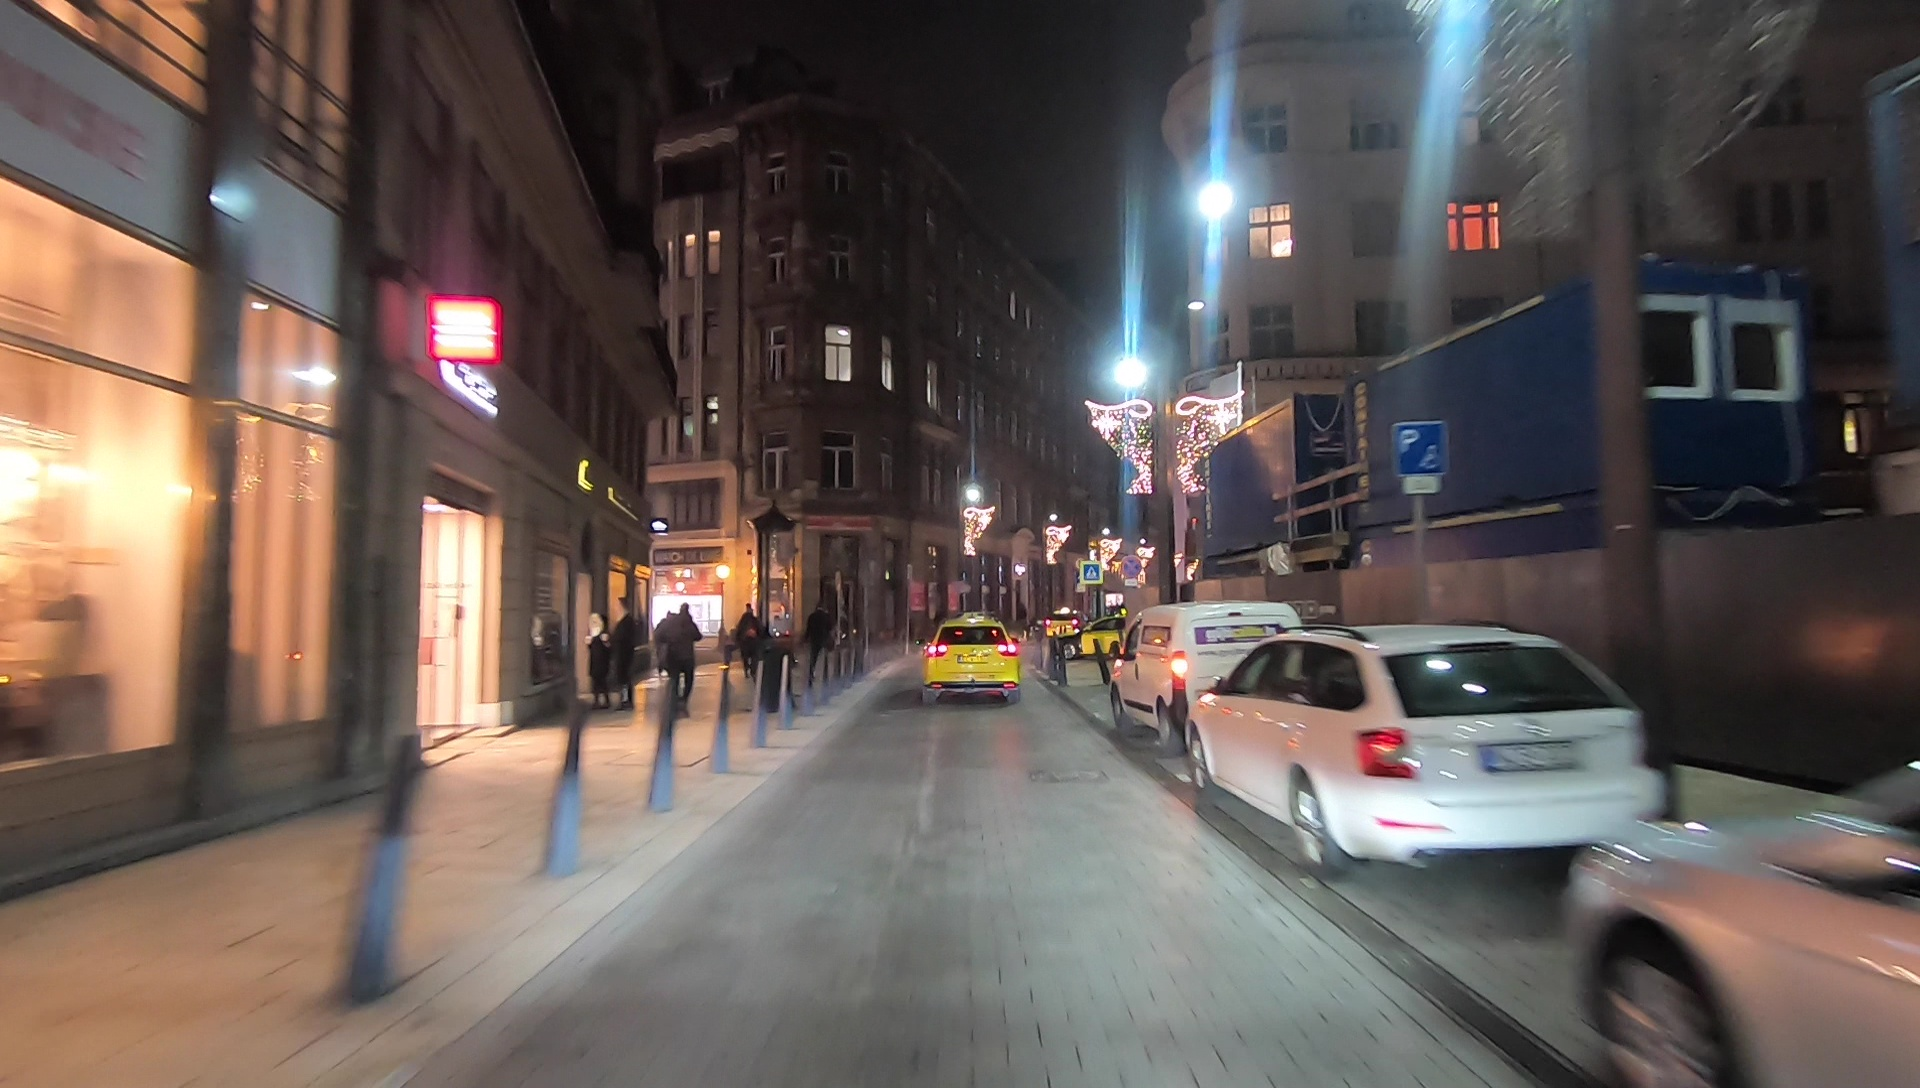person: (664, 598, 697, 723), (609, 596, 638, 714), (806, 602, 835, 697), (586, 613, 612, 711), (735, 600, 759, 682)
